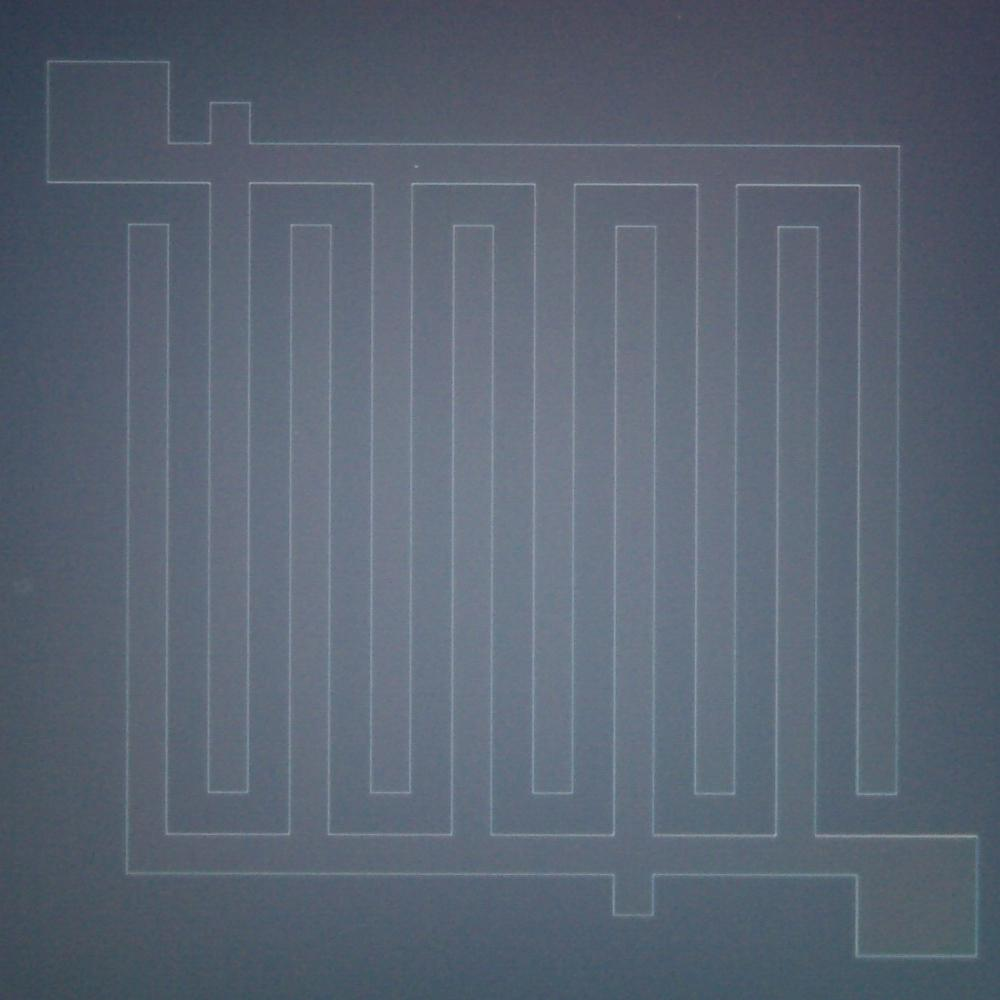dot: (414, 164, 419, 168)
